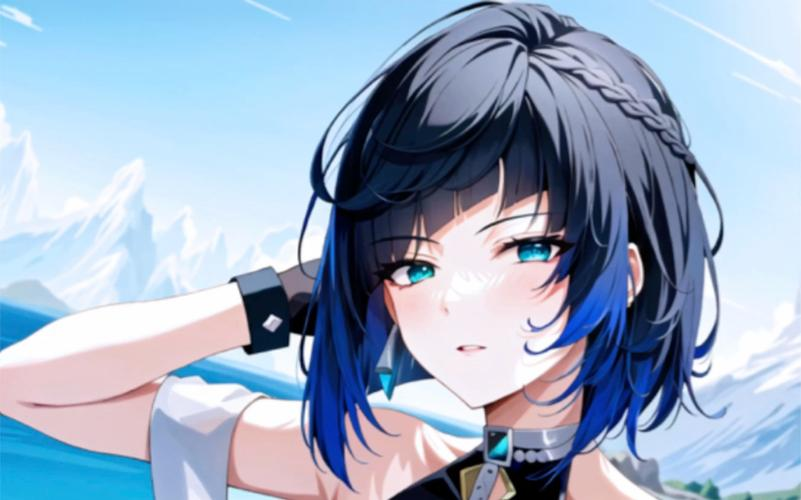夜兰: (1, 4, 718, 500)
